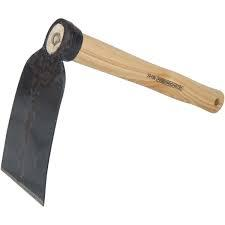HOUE: (0, 10, 225, 225)
